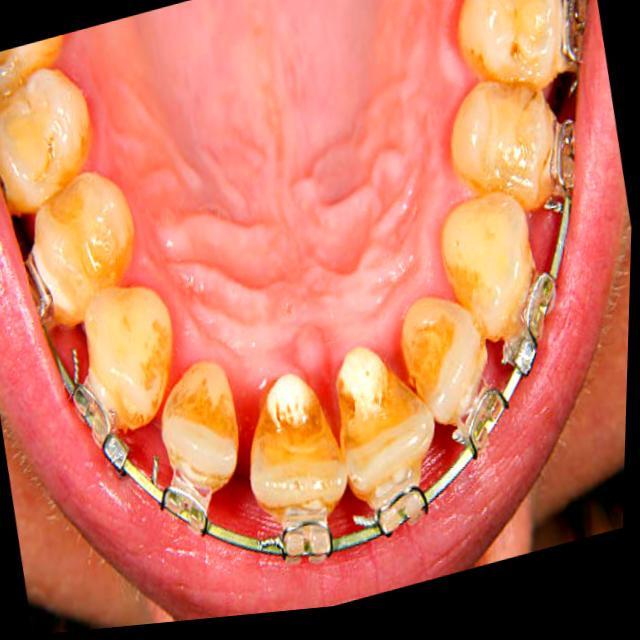calculus: (49, 174, 124, 284), (336, 350, 410, 450), (113, 328, 172, 427), (402, 297, 453, 400), (253, 382, 329, 449), (35, 127, 89, 203), (465, 40, 537, 92), (464, 169, 531, 209), (174, 398, 230, 432), (443, 253, 477, 304)
